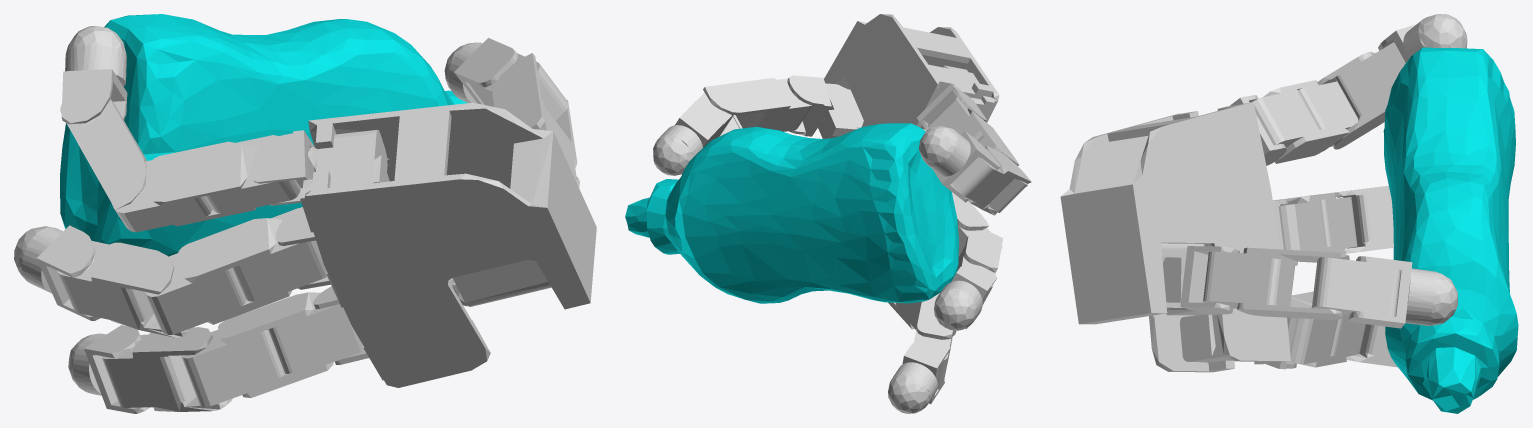
File: graspit_allegro_can.glb
3 views of the same model, side by side, from view 1: azimuth 30°, elevation 25°; view 2: azimuth 150°, elevation 25°; view 3: azimuth 270°, elevation 25° (orthographic). The views are drawn at different scales.
Parts seen in each view (by area): view 1: hand_allegro_mastard_bottle, object_allegro_mastard_bottle; view 2: object_allegro_mastard_bottle, hand_allegro_mastard_bottle; view 3: hand_allegro_mastard_bottle, object_allegro_mastard_bottle.
Boxes of the visible parts, x1=… form: hand_allegro_mastard_bottle: x1=14, y1=26, x2=596, y2=413; object_allegro_mastard_bottle: x1=60, y1=14, x2=467, y2=256; object_allegro_mastard_bottle: x1=625, y1=123, x2=958, y2=303; hand_allegro_mastard_bottle: x1=653, y1=14, x2=1031, y2=413; hand_allegro_mastard_bottle: x1=1060, y1=14, x2=1467, y2=372; object_allegro_mastard_bottle: x1=1383, y1=47, x2=1518, y2=413.
Size of the model in its own units: 0.2189 by 0.1658 by 0.1992.
